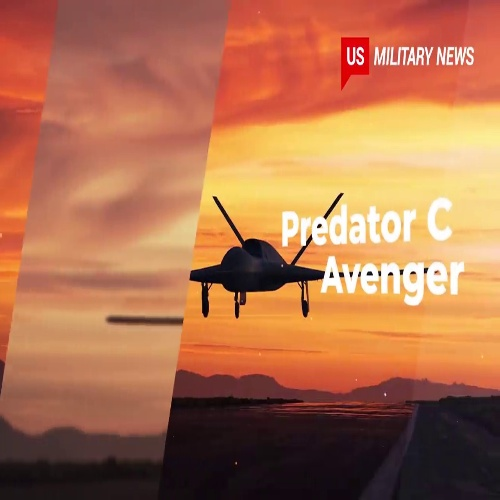uav: (189, 192, 437, 317)
